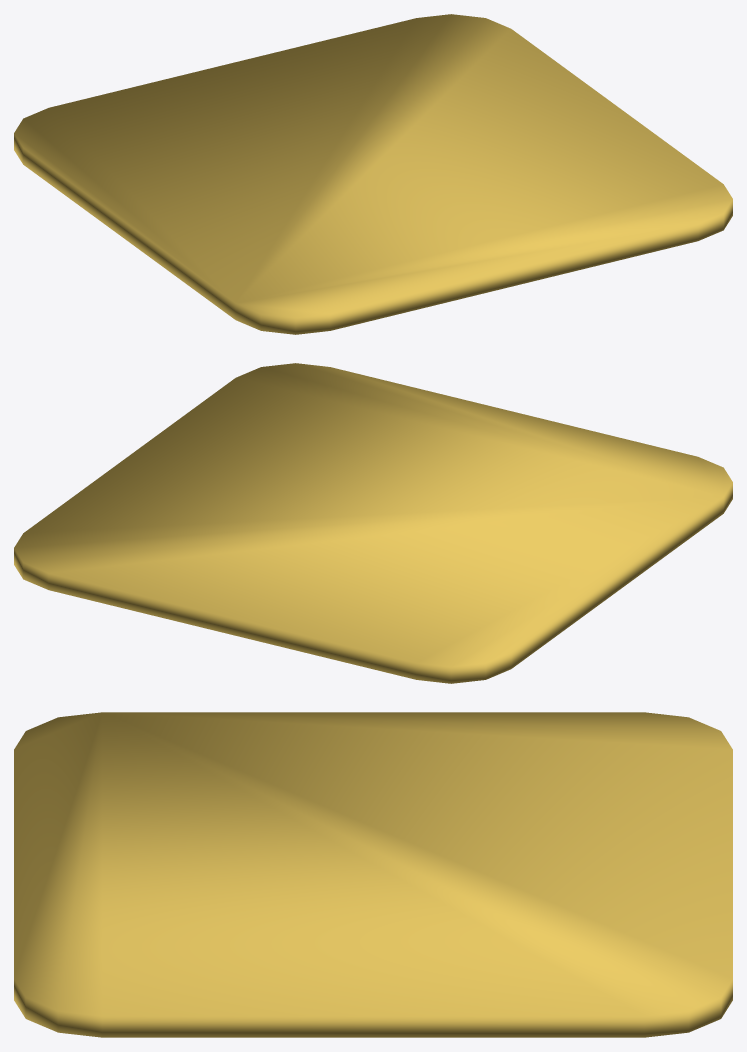
Rendered from cheese_sliced.fbx.
3 views of the same model, one above another, from view 1: azimuth 30°, elevation 25°; view 2: azimuth 150°, elevation 25°; view 3: azimuth 270°, elevation 25° (orthographic). The views are drawn at different scales.
Parts seen in each view (by area): view 1: cheese sliced; view 2: cheese sliced; view 3: cheese sliced.
Boxes of the visible parts, left/top/right/bottom form: cheese sliced: left=14, top=14, right=732, bottom=334; cheese sliced: left=14, top=363, right=732, bottom=683; cheese sliced: left=14, top=712, right=732, bottom=1037.
Bounding box in the file's own units: 160 × 5.28 × 160.
